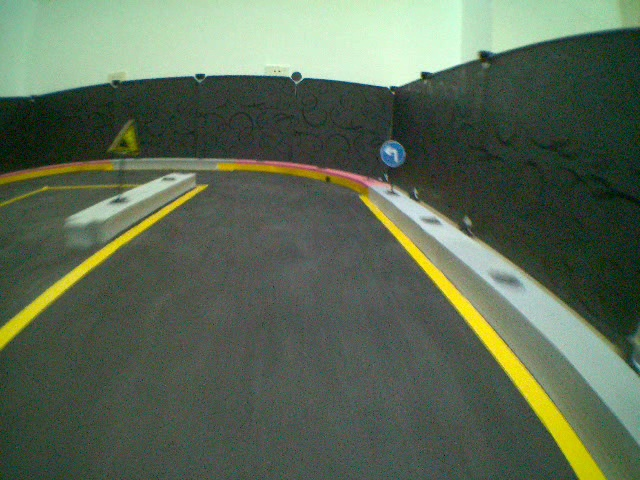fast: (106, 118, 141, 157)
turn: (379, 138, 407, 168)
